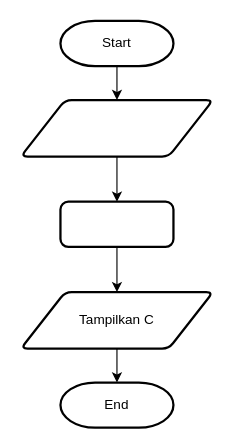
Some shapes in this 233 by 447 pixel diagram are drawn without their labels. The centre of each missing label's shape, as x and y in pixels:
"C = A + B" goes at [116,223].
"Masukkan A dan B" goes at [116,127].
